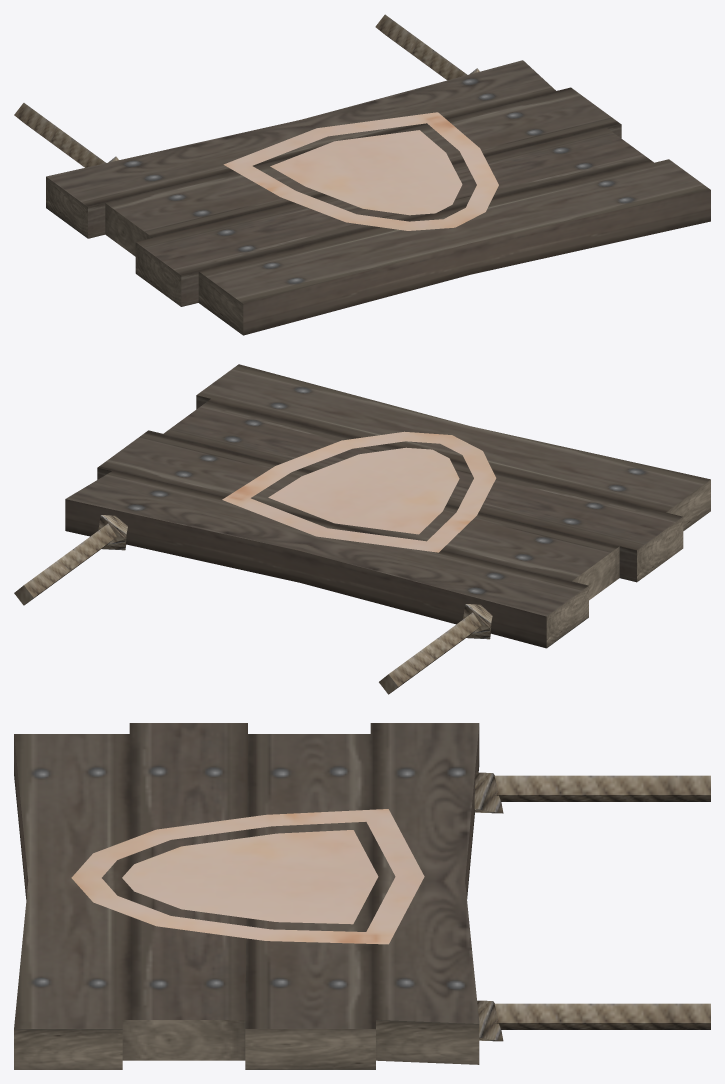
Rendered from Sign_Armory.fbx.
3 renders of one model, top to bottom at view 1: azimuth 30°, elevation 25°; view 2: azimuth 150°, elevation 25°; view 3: azimuth 270°, elevation 25°, orthographic. The views are drawn at different scales.
Visible parts, largest first — view 1: Sign_Armory; view 2: Sign_Armory; view 3: Sign_Armory.
Boxes of the visible parts, <box> form: Sign_Armory: <box>14,14,710,335</box>; Sign_Armory: <box>14,364,710,694</box>; Sign_Armory: <box>14,723,710,1069</box>.
Bounding box in the file's own units: 1.9 × 0.1603 × 1.83.
